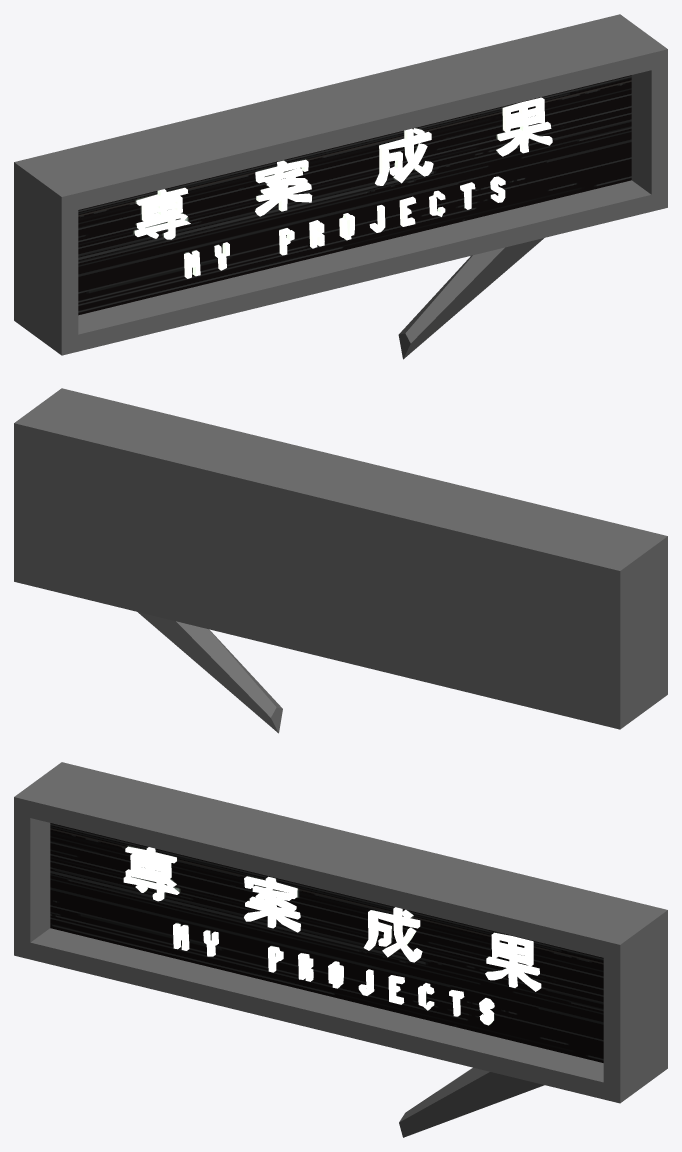
3 views of the same model, one above another, from view 1: azimuth 30°, elevation 25°; view 2: azimuth 150°, elevation 25°; view 3: azimuth 330°, elevation 25° (orthographic).
Visible parts, largest first — view 1: Project; view 2: Project; view 3: Project.
Part boxes in pixels (<box>): Project: <box>14,14,667,359</box>; Project: <box>14,388,667,733</box>; Project: <box>14,762,667,1137</box>.
Bounding box in the file's own units: 2 × 0.8489 × 0.2731.
Materials: 3 (1 with a texture image).
